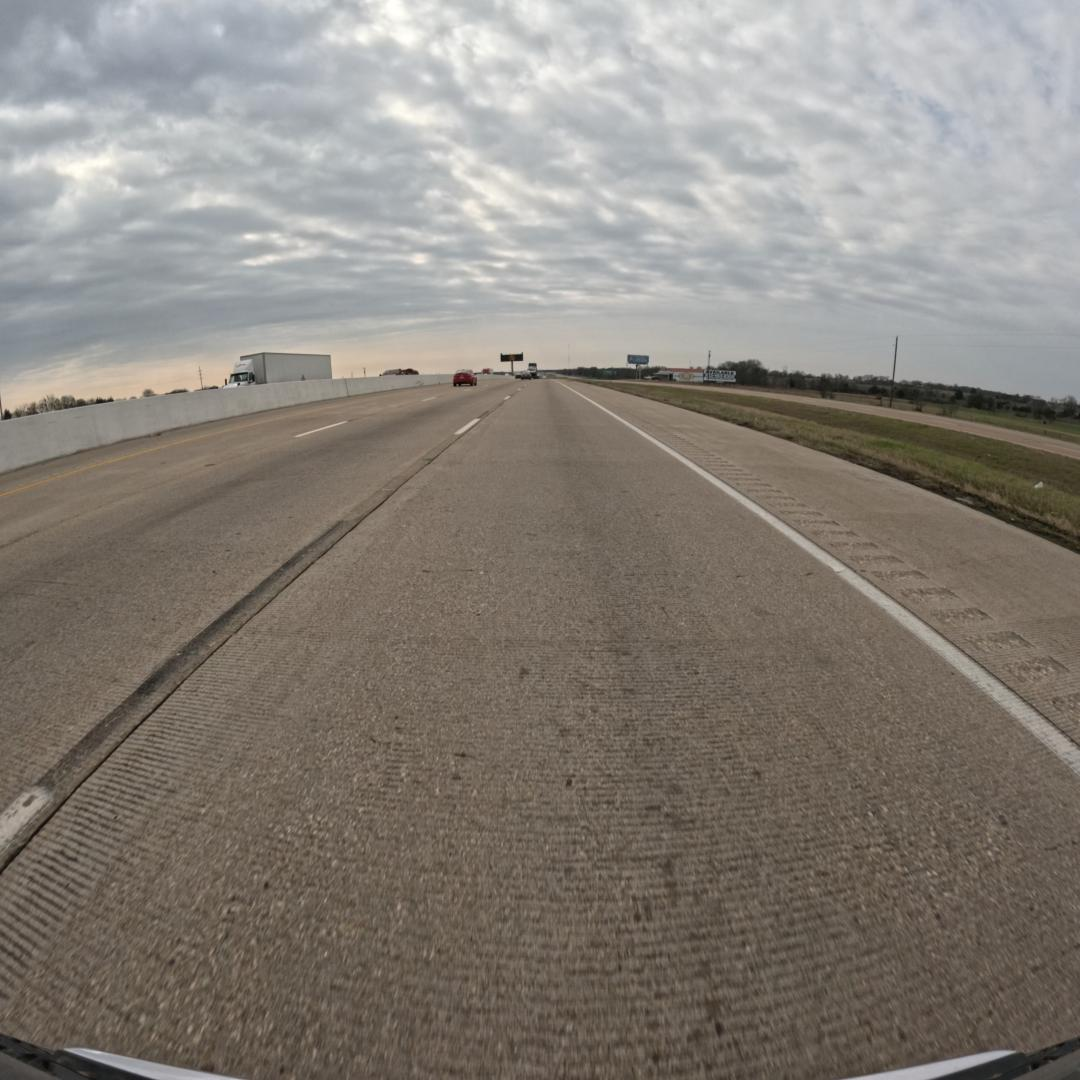lane0: (0, 383, 1080, 1076)
lane1: (0, 386, 514, 868)
